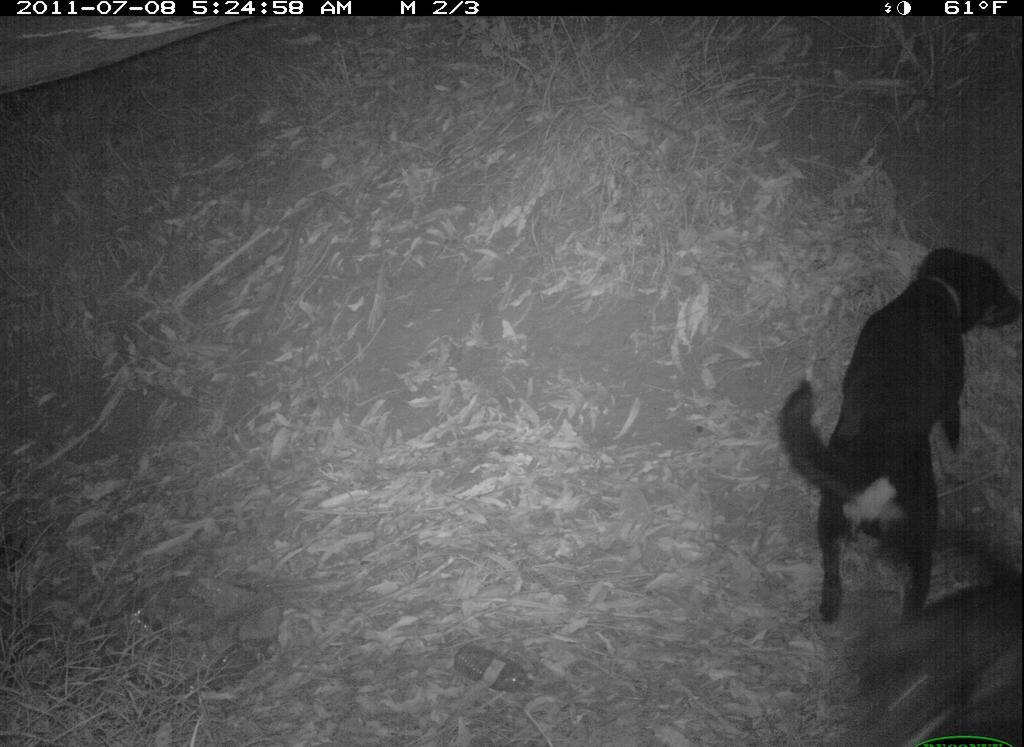dog: (776, 239, 1023, 630)
